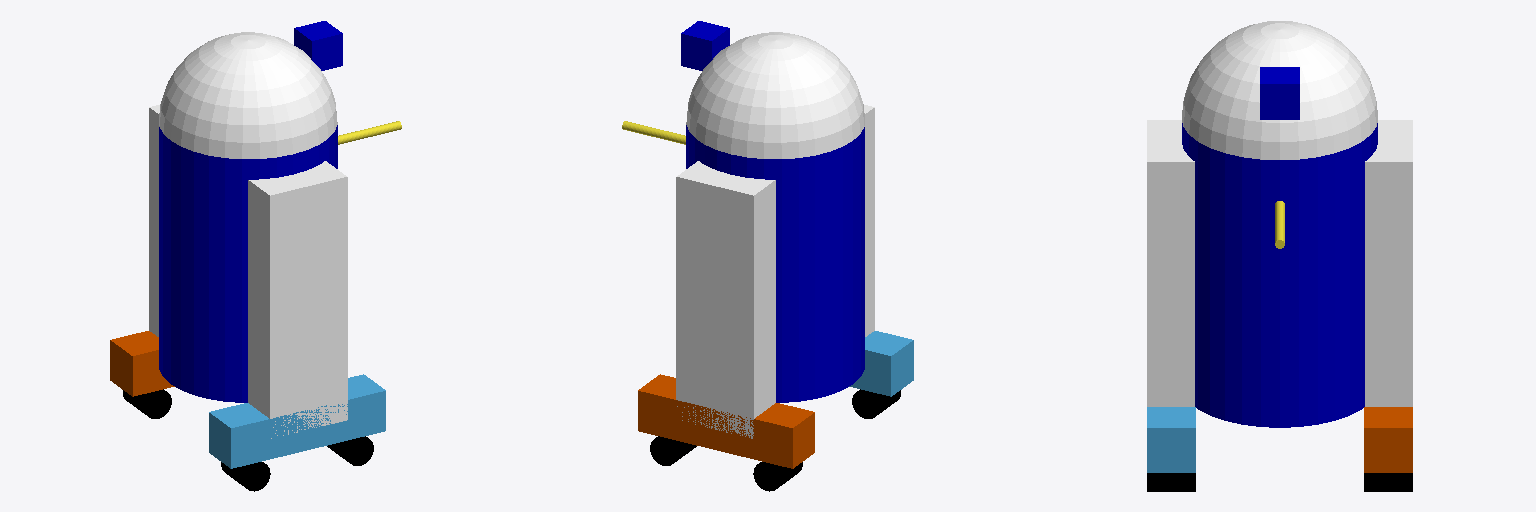
URDF robot description (tom):
<?xml version="1.0"?>
<robot name="tom">
    <material name="blue">
        <color rgba="0.0 0.0 0.8 1"/>
    </material>

    <material name="white">
        <color rgba="1 1 1 1"/>
    </material>

    <material name="black">
        <color rgba="0 0 0 1"/>
    </material>

    <!-- Body --> 
    <link name="base_link">
        <visual>
            <geometry>
                <cylinder radius="0.2" length="0.6"/>
            </geometry>
            <origin xyz="0.0 0.0 0.0" rpy="0.0 0.0 0.0"/>
            <material name="blue"/>"
        </visual>
        <collision>
            <geometry>
                <cylinder radius="0.2" length="0.6"/>
            </geometry>
        </collision>
    </link>


    <!-- Head -->
    <link name="head">
        <visual>
            <geometry>
                <sphere radius="0.2"/>
            </geometry>
            <material name="white"/>
        </visual>
    </link>

    <joint name="head_swivel" type="continuous">
        <parent link="base_link"/>
        <child link="head"/>
        <origin xyz="0 0 0.3"/>
        <axis xyz="0.0 0.0 1"/>
        
    </joint>
    
    <link name="box">
        <visual>
            <geometry>
                <box size="0.08 0.08 0.08"/>
            </geometry>
            <material name="blue"/>
        </visual>
    </link>

    <joint name="tobox" type="fixed">
        <parent link="head"/>
        <child link="box"/>
        <origin xyz="0.1814 0.0 0.1414" rpy="0.0 0.0 0.0"/>
    </joint>

    <!-- Gripper/Arm -->
    <link name="gripper_pole">
        <visual>
            <geometry>
                <cylinder radius="0.01" length="0.2"/>
            </geometry>
            <origin xyz="0.1 0.0 0.0" rpy="0.0 1.57075 0.0"/>
        </visual>
    </link>

    <joint name="gripper_extension" type="prismatic">
        <parent link="base_link"/>
        <child link="gripper_pole"/>
        <origin xyz="0.19 0.0 0.2" rpy="0.0 0.0 0.0"/>
        <limit lower="-.38" upper="0" effort="1000.0" velocity="0.5"/>
        
    </joint>

    <!-- Left Gripper/Hand-->
    <link name="left_gripper">
        <visual>
            <origin xyz="0.0 0.0 0.0" rpy="0.0 0.0 0.0"/>
            <geometry>
                <mesh filename="package://urdf_tutorial/meshes/l_finger.dae"/>
            </geometry>
        </visual>
    </link>

    <joint name="left_gripper_joint" type="revolute">
        <origin xyz="0.2 0.01 0.0" rpy="0.0 0.0 0.0"/>
        <parent link="gripper_pole"/>
        <child link="left_gripper"/>
        <axis xyz="0 0 1"/>
        <limit lower="0.0" upper="0.548" effort="1000.0" velocity="0.5"/>
    </joint>

    <link name="left_tip">
        <visual>
            <geometry>
                <mesh filename="package://urdf_tutorial/meshes/l_finger_tip.dae"/>
            </geometry>
            <origin xyz="0.09137 0.00495 0.0" rpy="0.0 0.0 0.0"/>
            
        </visual>
    </link>

    <joint name="left_tip_joint" type="fixed">
        <parent link="left_gripper"/>
        <child link="left_tip"/>
    </joint>

    <!-- Right Gripper/Hand-->
    <link name="right_gripper">
        <visual>
            <origin xyz="0.0 0.0 0.0" rpy="-3.1415 0.0 0.0"/>
            <geometry>
                <mesh filename="package://urdf_tutorial/meshes/l_finger.dae"/>
            </geometry>
        </visual>
    </link>

    <joint name="right_gripper_joint" type="fixed">
        <origin xyz="0.2 -0.01 0.0" rpy="0.0 0.0 0.0"/>
        <parent link="gripper_pole"/>
        <child link="right_gripper"/>
    </joint>

    <link name="right_tip">
        <visual>
            <geometry>
                <mesh filename="package://urdf_tutorial/meshes/l_finger_tip.dae"/>
            </geometry>  
            <origin xyz="0.09137 0.00495 0.0" rpy="-3.1415 0.0 0.0"/>
             
        </visual>
    </link>

    <joint name="right_tip_joint" type="fixed">
        <parent link="right_gripper"/>
        <child link="right_tip"/>
    </joint>

    <!-- Right Side -->
    <link name="right_leg">
        <visual>
            <geometry>
                <box size="0.6 0.1 0.2"/>
            </geometry>
            <origin xyz="0.0 0.0 -0.3" rpy="0.0 1.57075 0.0"/>
            <material name="white"/>
        </visual>
    </link>

    <joint name="base_to_right_leg" type="fixed">
        <parent link="base_link"/>
        <child link="right_leg"/>
        <origin xyz="0 -0.22 0.25"/>
    </joint>

    <link name="right_base">
        <visual>
            <geometry>
                <box size="0.4 0.1 0.1"/>
            </geometry>
        </visual>
        <material name="white"/>
    </link>

    <joint name="right_base_joint" type="fixed">
        <parent link="right_leg"/>
        <child link="right_base"/>
        <origin xyz="0 0 -0.6" rpy="0 0 0"/>
    </joint>

    <link name="right_front_wheel">
        <visual>
            <origin xyz="0 0 0" rpy="1.5705 0 0"/>
            <geometry>
                <cylinder radius="0.035" length="0.1"/>
            </geometry>
            <material name="black"/>
        </visual>
    </link>

    <joint name="right_front_wheel_joint" type="continuous">
        <parent link="right_base"/>
        <child link="right_front_wheel"/>
        <origin xyz="0.13333333333 0 -0.085" rpy="0.0 0.0 0.0"/>
        <axis xyz="0.0 1 0.0"/>
    </joint>
    
    <link name="right_back_wheel">
        <visual>
            <origin xyz="0 0 0" rpy="1.5705 0 0"/>
            <geometry>
                <cylinder radius="0.035" length="0.1"/>
            </geometry>
            <material name="black"/>
        </visual>
    </link>

    <joint name="right_back_wheel_joint" type="continuous">
        <parent link="right_base"/>
        <child link="right_back_wheel"/>
        <origin xyz="-0.13333333333 0 -0.085" rpy="0.0 0.0 0.0"/>
        <axis xyz="0.0 1 0.0"/>
    </joint>


    <!-- left side -->
    <link name="left_leg">
        <visual>
            <geometry>
                <box size="0.6 0.1 0.2"/>
            </geometry>
            <origin xyz="0.0 0.0 -0.3" rpy="0.0 1.57075 0.0"/>
            <material name="white"/>
        </visual>
    </link>

    <joint name="base_to_left_leg" type="fixed">
        <parent link="base_link"/>
        <child link="left_leg"/>
        <origin xyz="0 0.22 0.25"/>
    </joint>

    <link name="left_base">
        <visual>
            <geometry>
                <box size="0.4 0.1 0.1"/>
            </geometry>
        </visual>
        <material name="white"/>
    </link>

    <joint name="left_base_joint" type="fixed">
        <parent link="left_leg"/>
        <child link="left_base"/>
        <origin xyz="0 0 -0.6" rpy="0 0 0"/>
    </joint>

    <link name="left_front_wheel">
        <visual>
            <origin xyz="0 0 0" rpy="1.5705 0 0"/>
            <geometry>
                <cylinder radius="0.035" length="0.1"/>
            </geometry>
            <material name="black"/>
        </visual>
    </link>

    <joint name="left_front_wheel_joint" type="continuous">
        <parent link="left_base"/>
        <child link="left_front_wheel"/>
        <origin xyz="0.13333333333 0 -0.085" rpy="0.0 0.0 0.0"/>
        <axis xyz="0.0 1 0.0"/>
    </joint>
    
    <link name="left_back_wheel">
        <visual>
            <origin xyz="0 0 0" rpy="1.5705 0 0"/>
            <geometry>
                <cylinder radius="0.035" length="0.1"/>
            </geometry>
            <material name="black"/>
        </visual>
    </link>

    <joint name="left_back_wheel_joint" type="continuous">
        <parent link="left_base"/>
        <child link="left_back_wheel"/>
        <origin xyz="-0.13333333333 0 -0.085" rpy="0.0 0.0 0.0"/>
        <axis xyz="0.0 1 0.0"/>
        
    </joint>

</robot>

--- Facts derived from the render (not from the file) ---
Views: 3 orthographic renders of the robot side by side, from view 1: azimuth 30°, elevation 25°; view 2: azimuth 150°, elevation 25°; view 3: azimuth 270°, elevation 25°.
Robot: tom — 16 links, 15 joints (1 revolute, 5 continuous, 1 prismatic, 8 fixed); root link base_link; default pose: all joints at 0.
Links seen in each view (by area): view 1: right_leg, base_link, head, right_base, left_base, left_leg, box, right_back_wheel, left_back_wheel, right_front_wheel, gripper_pole; view 2: left_leg, base_link, head, left_base, right_base, right_leg, box, left_back_wheel, right_back_wheel, left_front_wheel, gripper_pole; view 3: base_link, head, right_leg, left_leg, right_base, left_base, box, right_front_wheel, left_front_wheel.
Link boxes in pixels (x1,y1,x2,y2): right_leg: [248, 161, 347, 438]; base_link: [159, 125, 337, 402]; head: [159, 32, 337, 158]; right_base: [209, 374, 385, 468]; left_base: [110, 331, 174, 396]; left_leg: [149, 105, 159, 336]; box: [294, 21, 342, 70]; right_back_wheel: [221, 462, 270, 491]; left_back_wheel: [123, 389, 171, 418]; right_front_wheel: [327, 436, 373, 465]; gripper_pole: [338, 121, 401, 144]; left_leg: [676, 161, 775, 438]; base_link: [686, 125, 864, 402]; head: [686, 32, 864, 158]; left_base: [638, 374, 814, 468]; right_base: [849, 331, 913, 396]; right_leg: [864, 105, 874, 336]; box: [681, 21, 729, 70]; left_back_wheel: [753, 462, 802, 491]; right_back_wheel: [852, 389, 900, 418]; left_front_wheel: [650, 436, 696, 465]; gripper_pole: [622, 121, 685, 144]; base_link: [1182, 123, 1377, 427]; head: [1182, 21, 1377, 159]; right_leg: [1147, 120, 1194, 406]; left_leg: [1365, 120, 1412, 406]; right_base: [1147, 407, 1195, 472]; left_base: [1364, 407, 1412, 472]; box: [1260, 67, 1299, 119]; right_front_wheel: [1147, 473, 1195, 491]; left_front_wheel: [1364, 473, 1412, 491].
Bounding box of the posed robot: 0.59 × 0.54 × 0.97 m (x, y, z).
0 mesh visuals loaded from 2 distinct referenced files (none loaded); not drawn: 4 (reference not matched to a file when rendering).
